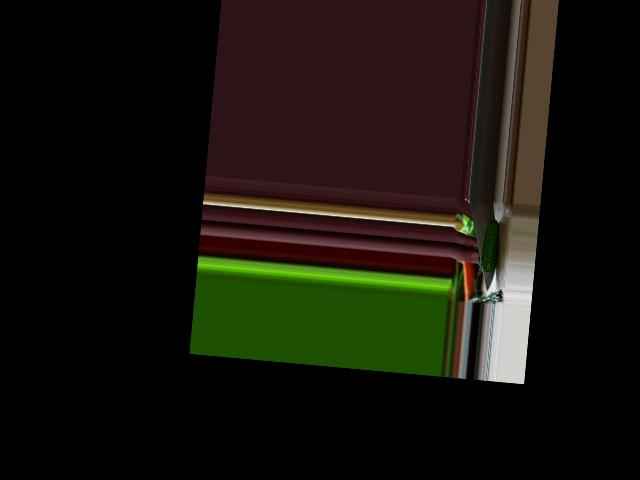cucumber: (480, 219, 501, 273)
